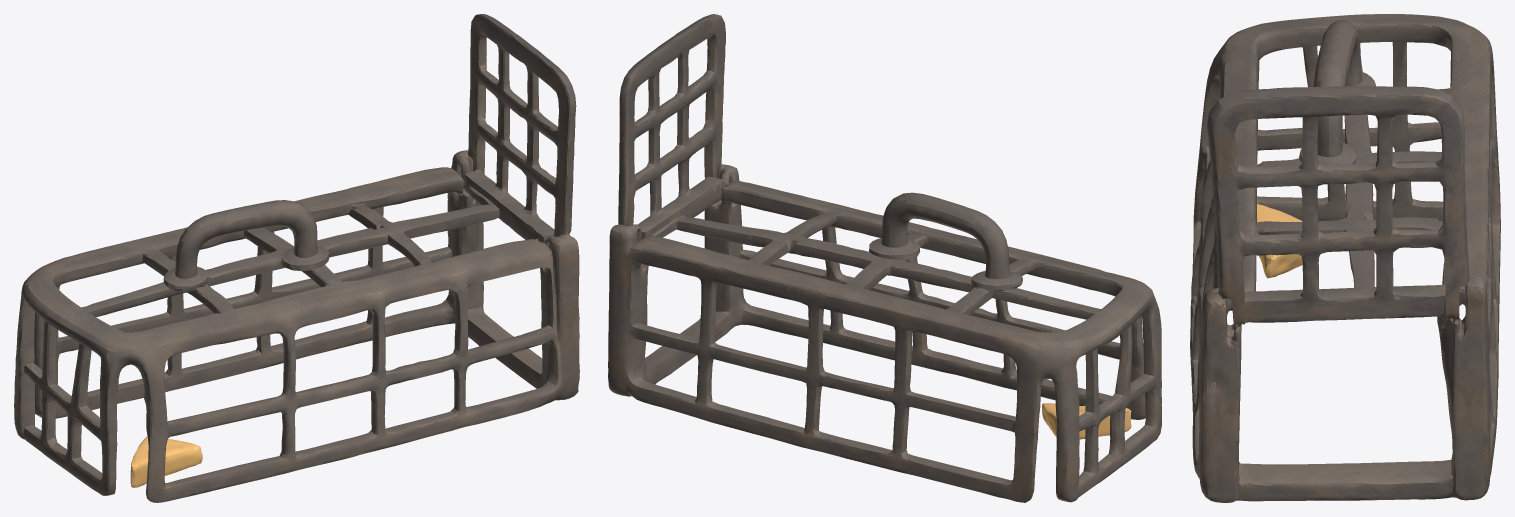
The model's file is cage_trap.glb.
The picture shows the model from 3 angles, left to right: view 1: azimuth 30°, elevation 25°; view 2: azimuth 150°, elevation 25°; view 3: azimuth 270°, elevation 25°; orthographic projection. The views are drawn at different scales.
Visible parts, largest first — view 1: Mesh0; view 2: Mesh0; view 3: Mesh0.
Boxes of the visible parts, box(x1,y1,x2,y2) form: Mesh0: box(14, 14, 579, 502); Mesh0: box(608, 14, 1161, 502); Mesh0: box(1190, 14, 1500, 502).
Bounding box in the file's own units: 1.9 × 1.25 × 0.8466.
1 material, 1 textured.
